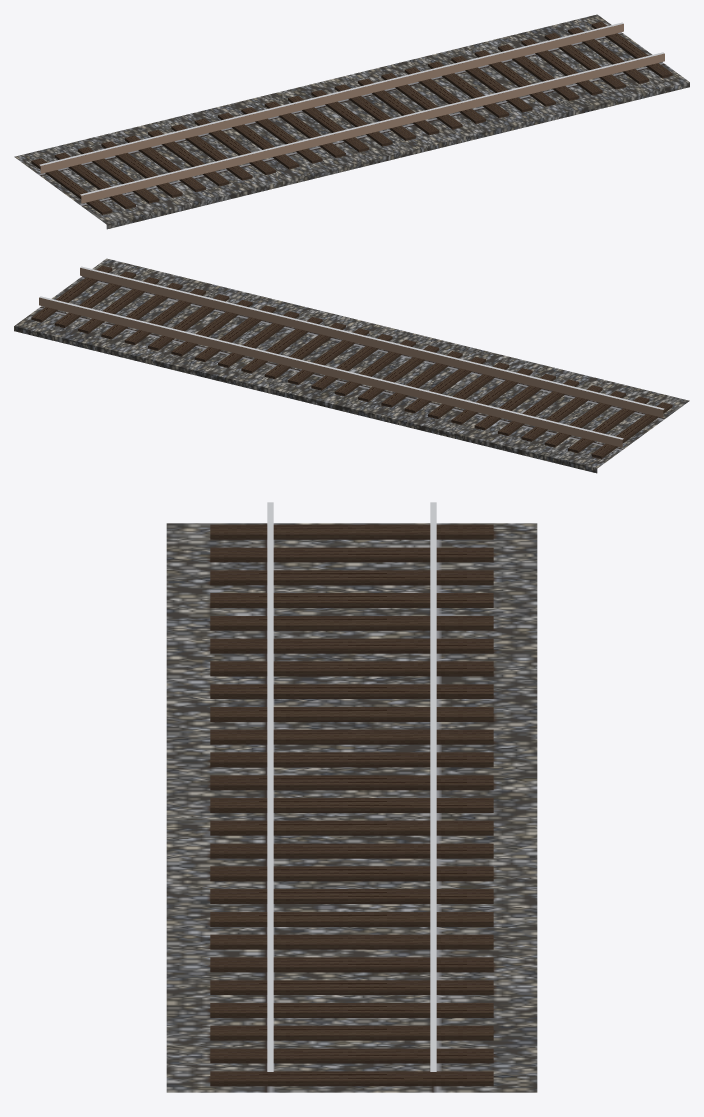
Rendered from kolej_rovna_drevo_siroka.glb.
The picture shows the model from 3 angles, top to bottom: view 1: azimuth 30°, elevation 25°; view 2: azimuth 150°, elevation 25°; view 3: azimuth 270°, elevation 25°; orthographic projection. The views are drawn at different scales.
Parts seen in each view (by area): view 1: kolej_rovna_drevo_siroka; view 2: kolej_rovna_drevo_siroka; view 3: kolej_rovna_drevo_siroka.
Part boxes in pixels (bbox=[...]): kolej_rovna_drevo_siroka: bbox=[14, 14, 689, 229]; kolej_rovna_drevo_siroka: bbox=[14, 258, 689, 473]; kolej_rovna_drevo_siroka: bbox=[166, 502, 537, 1092].
Size of the model in its own units: 14.84 by 0.373 by 4.08.
4 materials, 2 textured.
